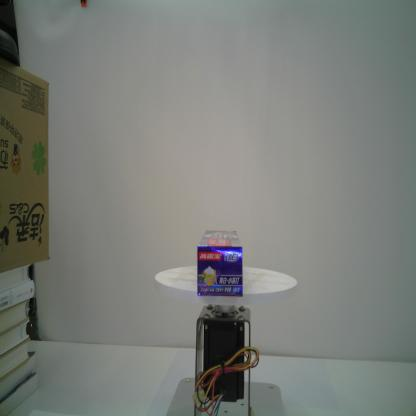Personal Hygiene: (196, 227, 244, 298)
